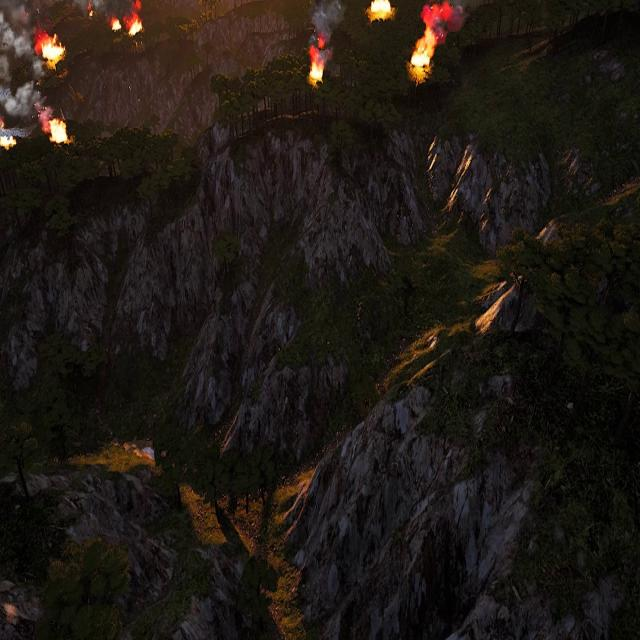fire: (409, 30, 437, 76), (39, 33, 62, 59), (49, 118, 68, 143), (308, 61, 324, 86), (370, 0, 393, 17), (0, 133, 18, 151), (130, 20, 141, 38), (111, 22, 122, 31), (88, 9, 94, 17)
smoke: (0, 0, 46, 125), (308, 0, 343, 56), (124, 1, 143, 30), (78, 0, 106, 18)
